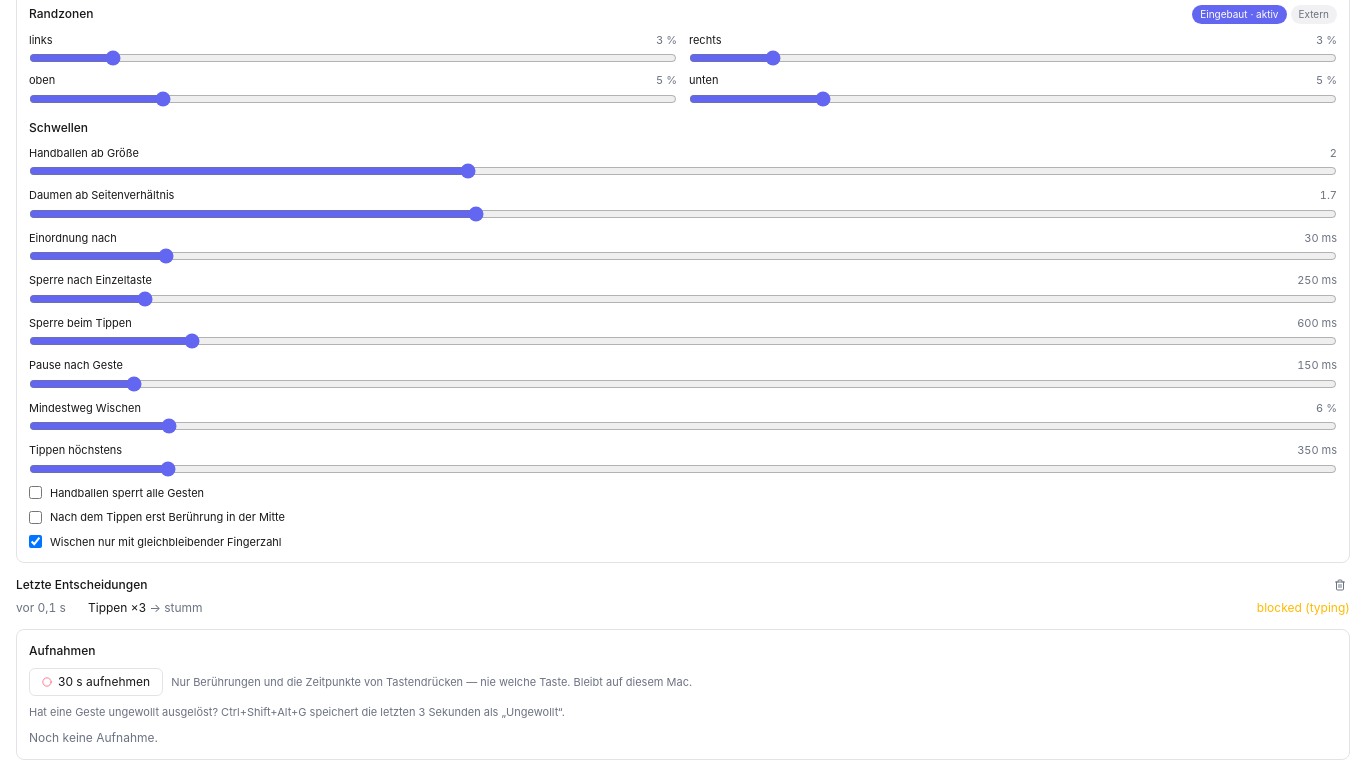
Test: GesturesPanel › offers the reset only once something differs from the defaults
The width and height of the screenshot is (1366, 768).
(page scrolled)
Expected: the text "Standardwerte" is not shown
Set the slider labelled "Pause nach Geste 150 ms" to "300" at [231, 384], box [29,376,1337,392]
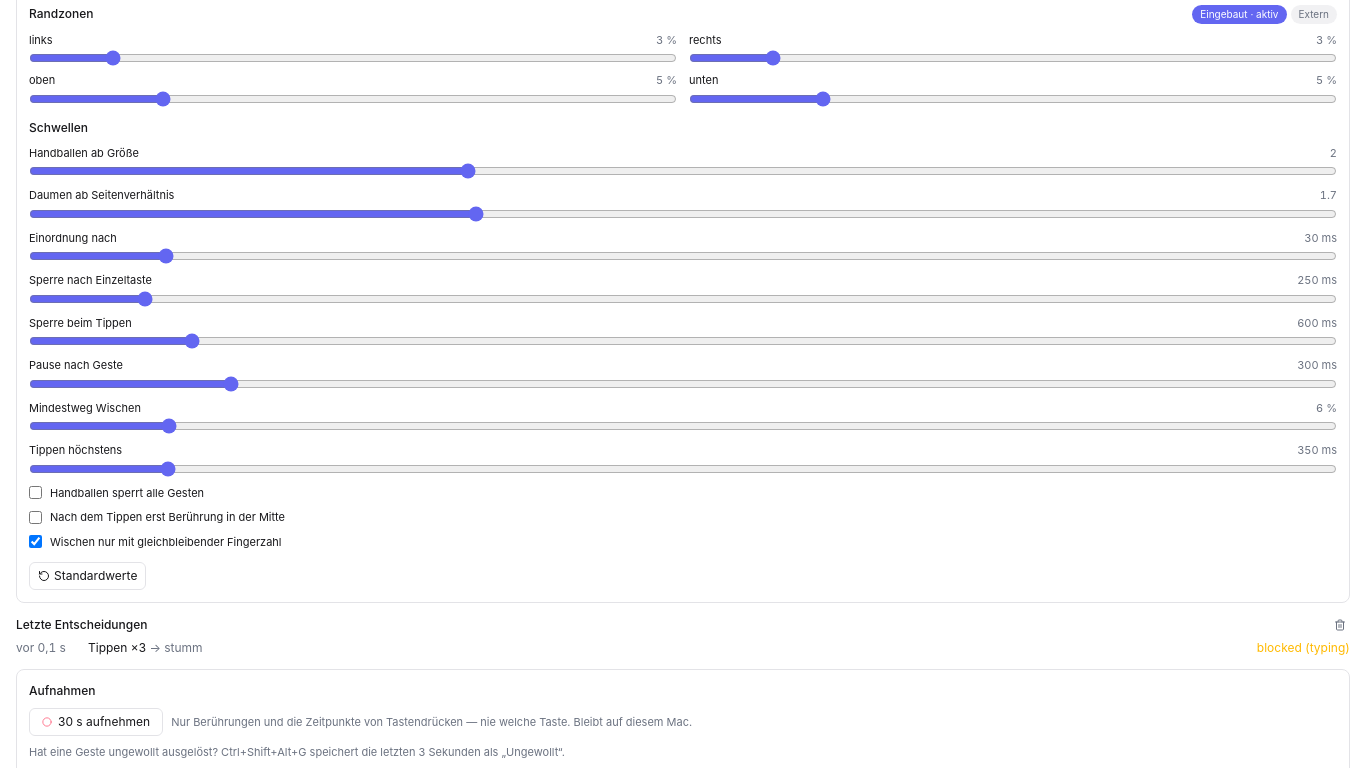
Now the button "Standardwerte" is shown, box [29,562,146,590]
